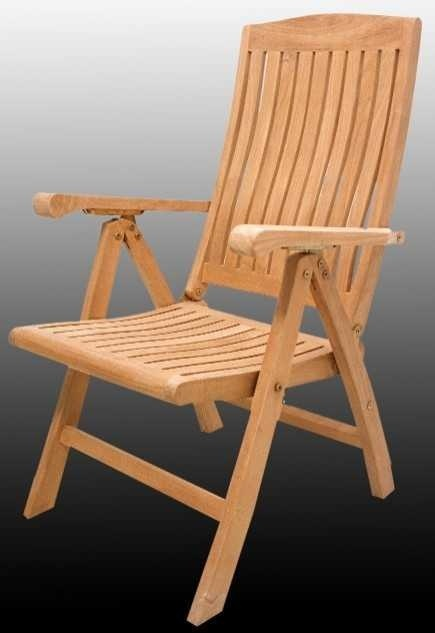obstacle: (11, 14, 419, 623)
